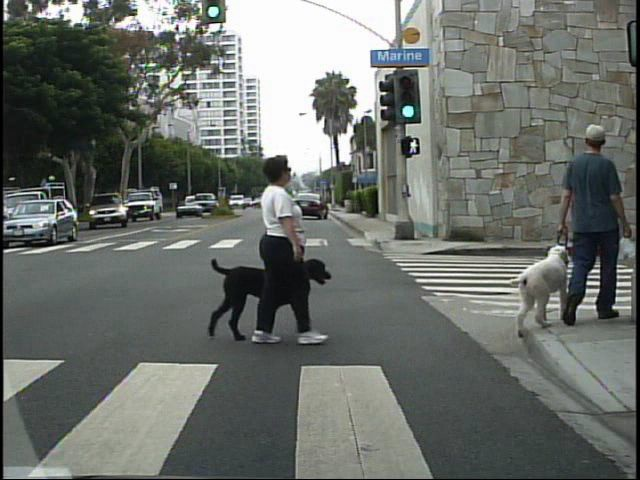person: (557, 111, 638, 337), (242, 147, 322, 351)
